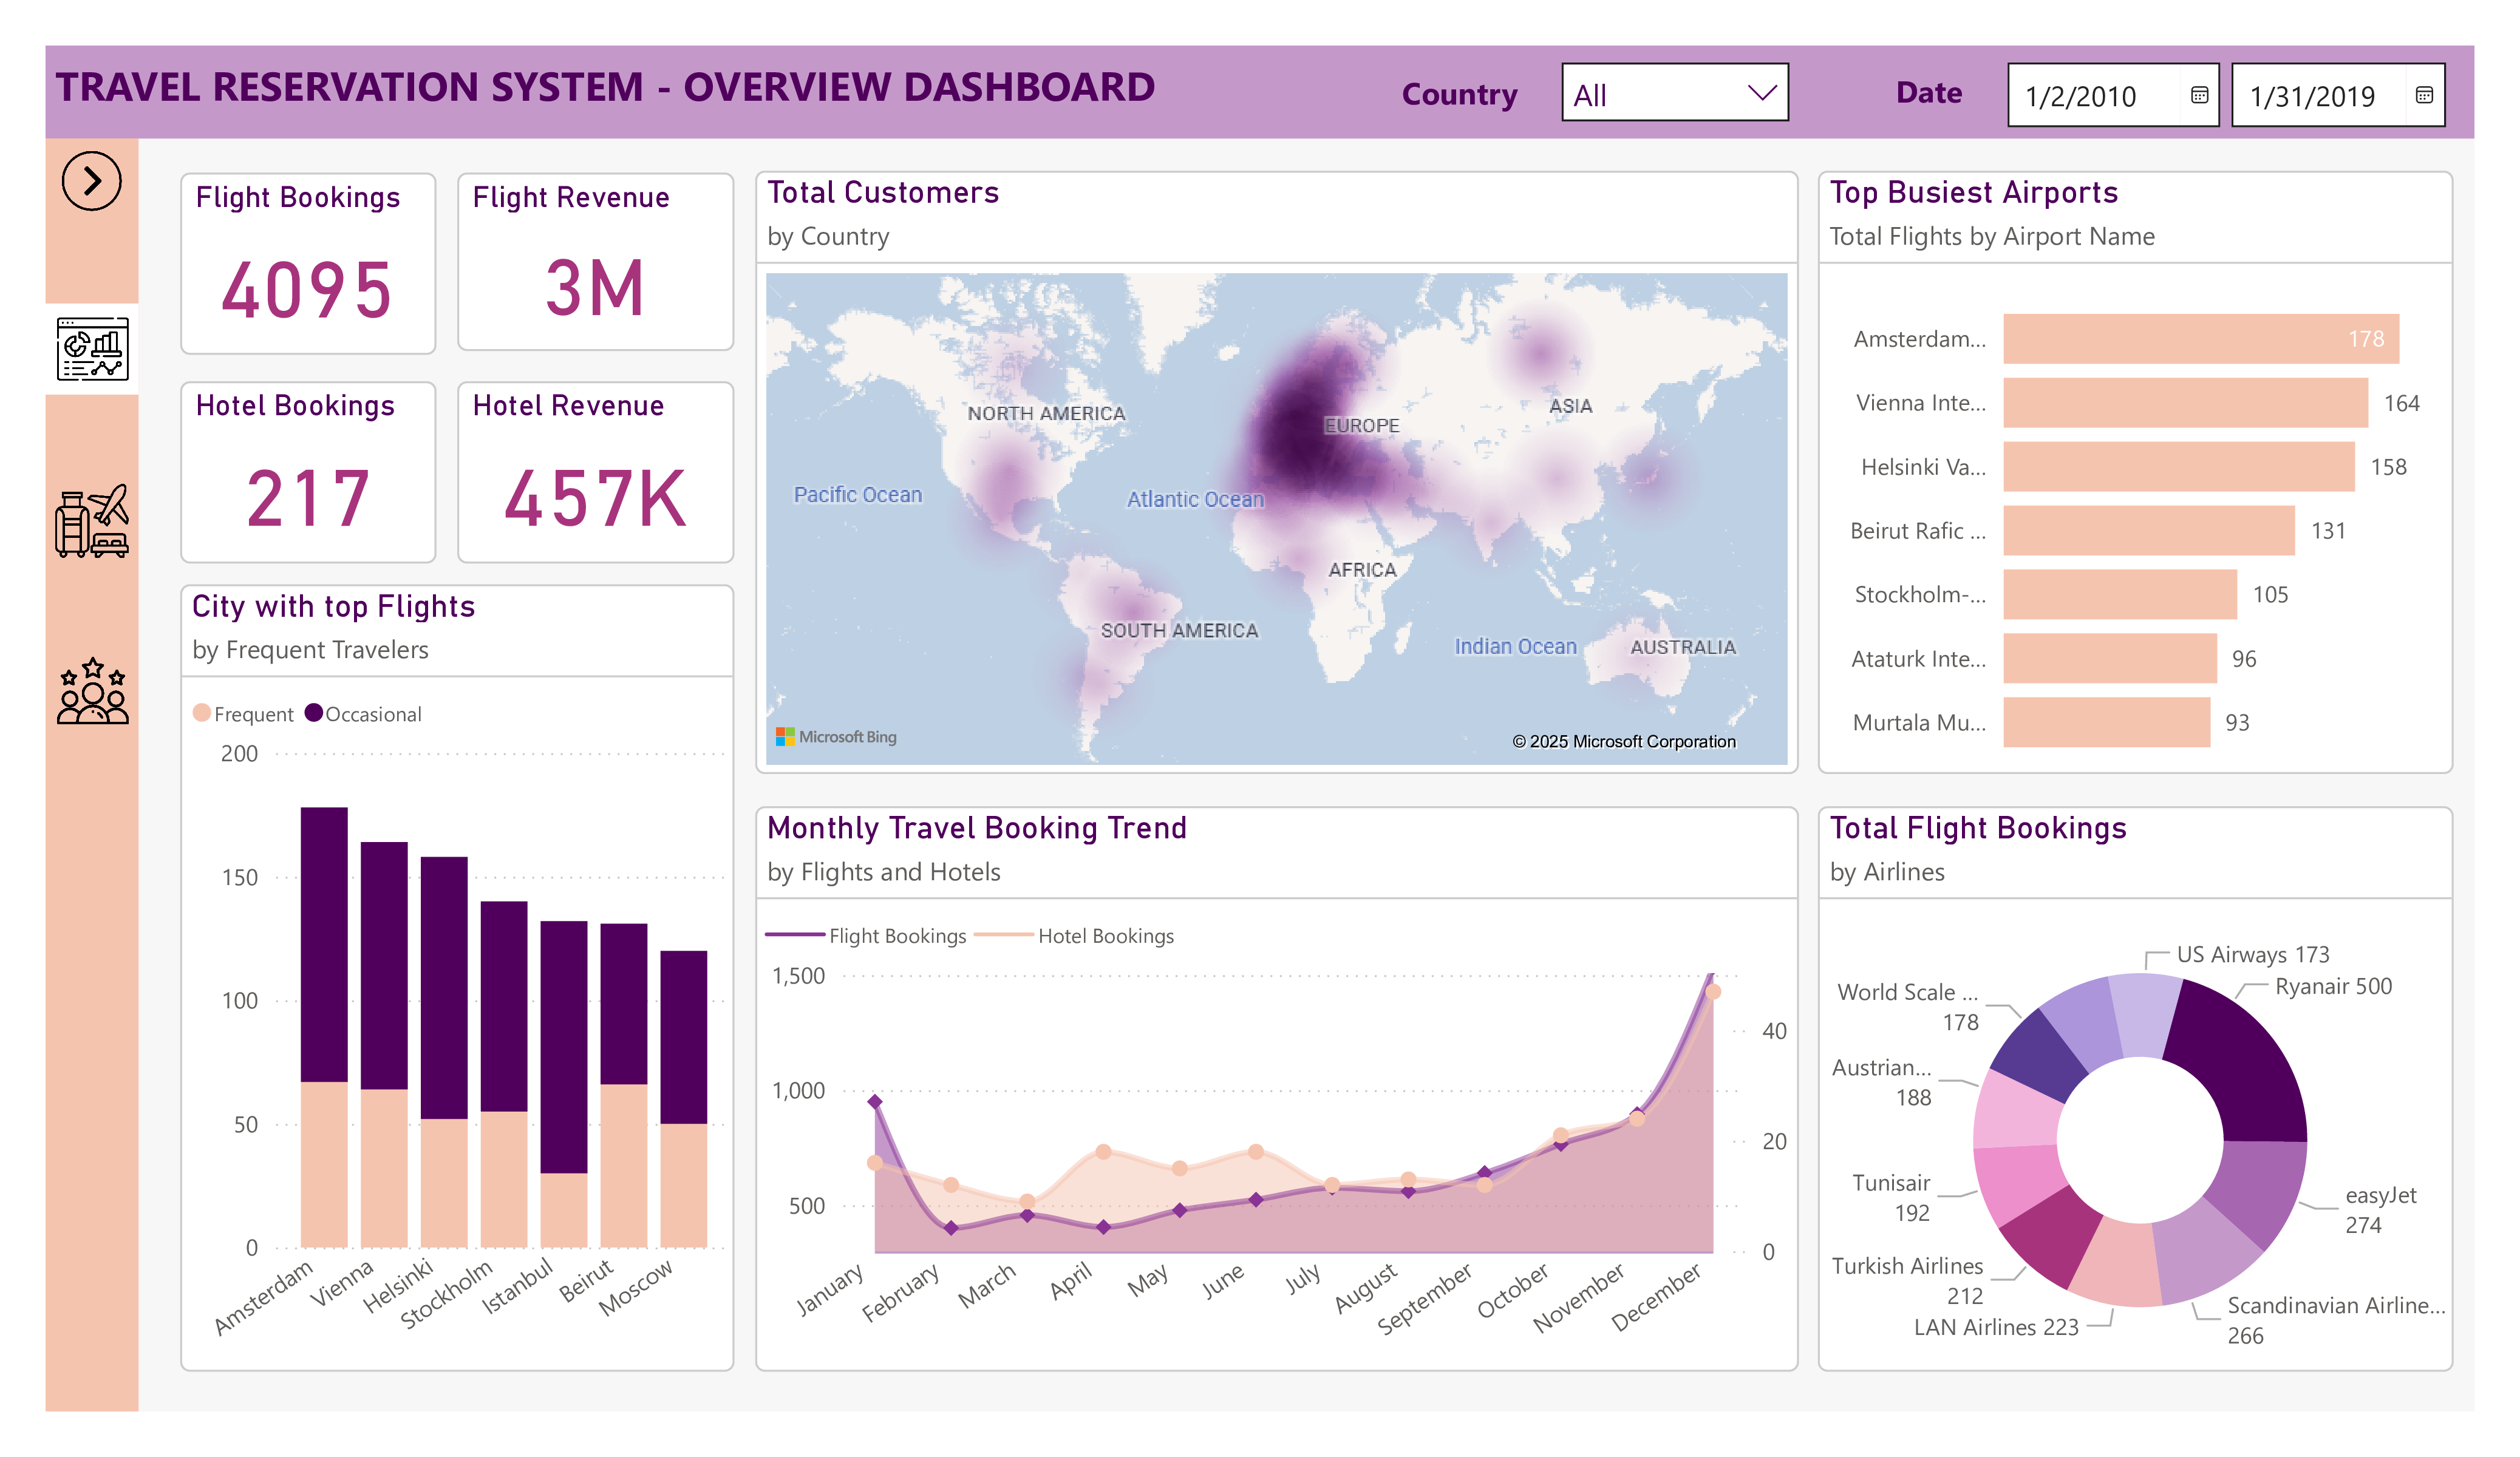

Layout of this report page (visuals, bound fields, positions):
{"tool":"powerbi","page":{"name":"Home","canvas":[1280,720],"ordinal":0},"visuals":[{"type":"card","title":"Total Flight Bookings","fields":{"Values":["Count(flight_bookings.trip_id)"]},"box":[352,80,176,96],"z":0},{"type":"card","title":"Total Customers","fields":{"Values":["Count(customers.customer_id)"]},"box":[160,80,160,96],"z":1000},{"type":"card","title":"Flight Revenue","fields":{"Values":["Sum(flight_bookings.price)"]},"box":[832,80,192,96],"z":2000},{"type":"filledMap","title":"Total Customers by Country","fields":{"Category":["customers.customer_country"],"Series":["customers.customer_country"]},"box":[144,192,576,256],"z":3000},{"type":"card","title":"Hotel Revenue","fields":{"Values":["Sum(hotel_bookings.price)"]},"box":[1072,80,176,96],"z":4000},{"type":"donutChart","title":"Total Bookings by Airlines","fields":{"Y":["CountNonNull(flight_bookings.trip_id)"],"Category":["airlines.airline_name"]},"box":[752,192,496,256],"z":5000},{"type":"card","title":"Total Hotel Bookings","fields":{"Values":["CountNonNull(hotel_bookings.trip_id)"]},"box":[608,80,176,96],"z":6000},{"type":"lineChart","title":"Monthly Booking Trend","fields":{"Category":["flight_bookings.departure_date.Variation.Date Hierarchy.Month"],"Y":["Count(flight_bookings.trip_id)"]},"box":[752,480,496,224],"z":7000},{"type":"clusteredBarChart","title":"Top Busiest Airports","fields":{"Category":["airports.airport_name"],"Y":["CountNonNull(flight_bookings.trip_id)"]},"box":[144,480,576,224],"z":8000},{"type":"shape","box":[0,0,1280,48],"z":9000},{"type":"slicer","title":"country","fields":{"Values":["customers.customer_country"]},"box":[351,6,132,36],"z":10000},{"type":"textbox","title":"Country","box":[272,16,80,24],"z":11000},{"type":"textbox","title":"Gender","box":[528,16,80,24],"z":12000},{"type":"slicer","fields":{"Values":["customers.customer_gender"]},"box":[608,6,132,36],"z":13000}]}

Visuals, with their boxes on the page's 1280x720 design canvas (x1, y1, x2, y2). These are canvas units, not pixel positions in the 2520x1457 screenshot, which may show the page scaled, cropped or inside an application window:
"Total Flight Bookings" card: 352,80,528,176
"Total Customers" card: 160,80,320,176
"Flight Revenue" card: 832,80,1024,176
"Total Customers by Country" filledMap: 144,192,720,448
"Hotel Revenue" card: 1072,80,1248,176
"Total Bookings by Airlines" donutChart: 752,192,1248,448
"Total Hotel Bookings" card: 608,80,784,176
"Monthly Booking Trend" lineChart: 752,480,1248,704
"Top Busiest Airports" clusteredBarChart: 144,480,720,704
shape: 0,0,1280,48
"country" slicer: 351,6,483,42
"Country" textbox: 272,16,352,40
"Gender" textbox: 528,16,608,40
slicer - customers.customer_gender: 608,6,740,42
